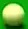white: (0, 0, 28, 29)
